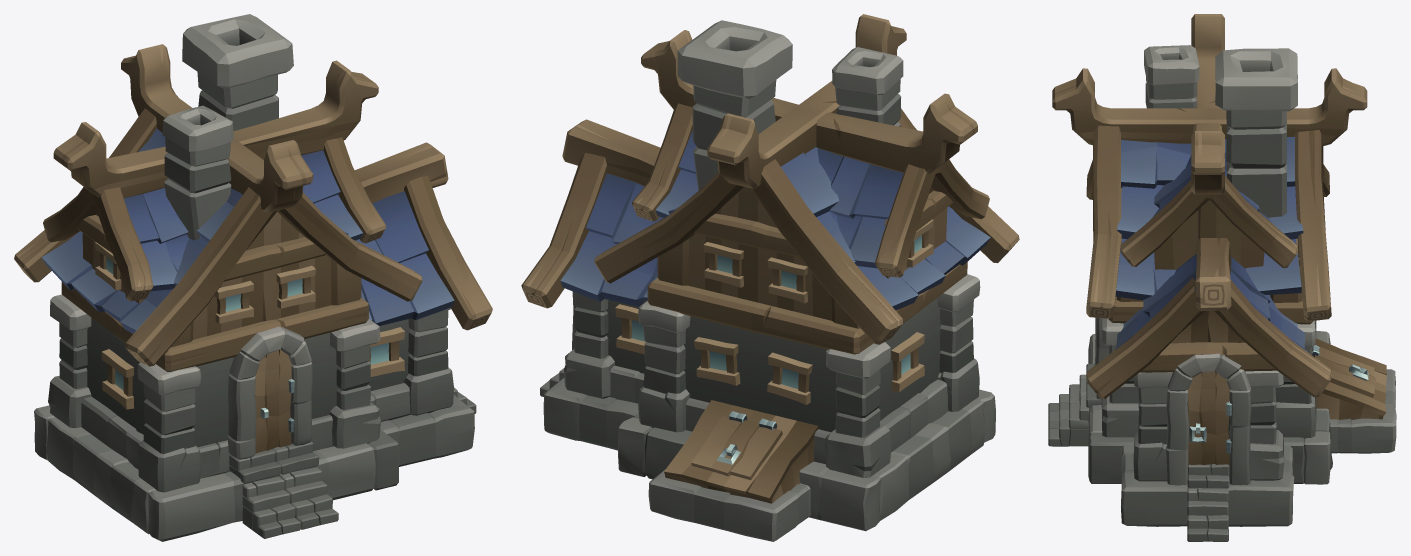
The model's file is House.fbx.
The picture shows the model from 3 angles, left to right: view 1: azimuth 30°, elevation 25°; view 2: azimuth 150°, elevation 25°; view 3: azimuth 270°, elevation 25°; orthographic projection. The views are drawn at different scales.
Visible parts, largest first — view 1: 11__house_Lv3_door_pr_11__house_Lv3_door_pr_21_11__house_Lv3; view 2: 11__house_Lv3_door_pr_11__house_Lv3_door_pr_21_11__house_Lv3; view 3: 11__house_Lv3_door_pr_11__house_Lv3_door_pr_21_11__house_Lv3.
Boxes of the visible parts, x1=… form: 11__house_Lv3_door_pr_11__house_Lv3_door_pr_21_11__house_Lv3: x1=14, y1=14, x2=492, y2=541; 11__house_Lv3_door_pr_11__house_Lv3_door_pr_21_11__house_Lv3: x1=521, y1=14, x2=1019, y2=541; 11__house_Lv3_door_pr_11__house_Lv3_door_pr_21_11__house_Lv3: x1=1048, y1=14, x2=1396, y2=541.
Size of the model in its own units: 10.74 by 10.36 by 8.38.
Materials: 1 (1 with a texture image).
